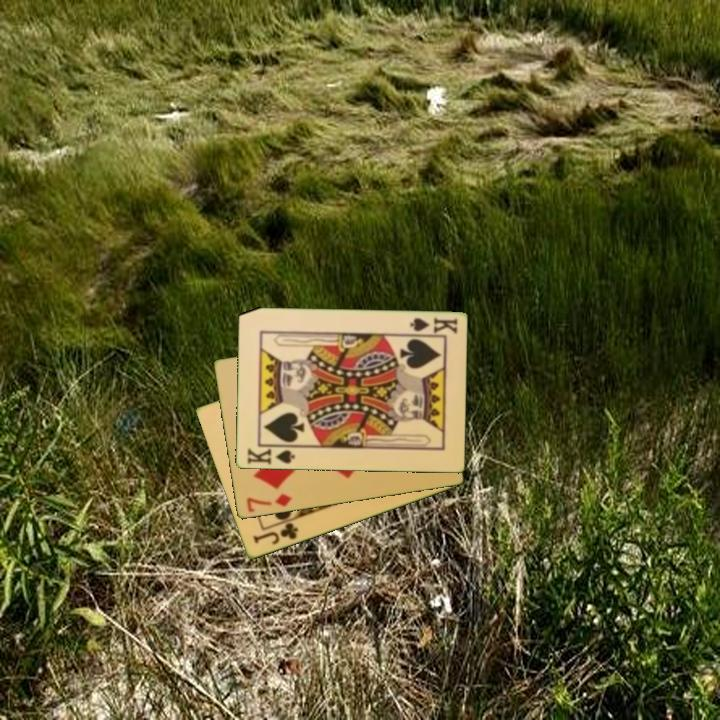7d: (243, 490, 294, 516)
Jc: (249, 519, 301, 548)
Ks: (243, 445, 298, 468), (406, 314, 460, 337)
